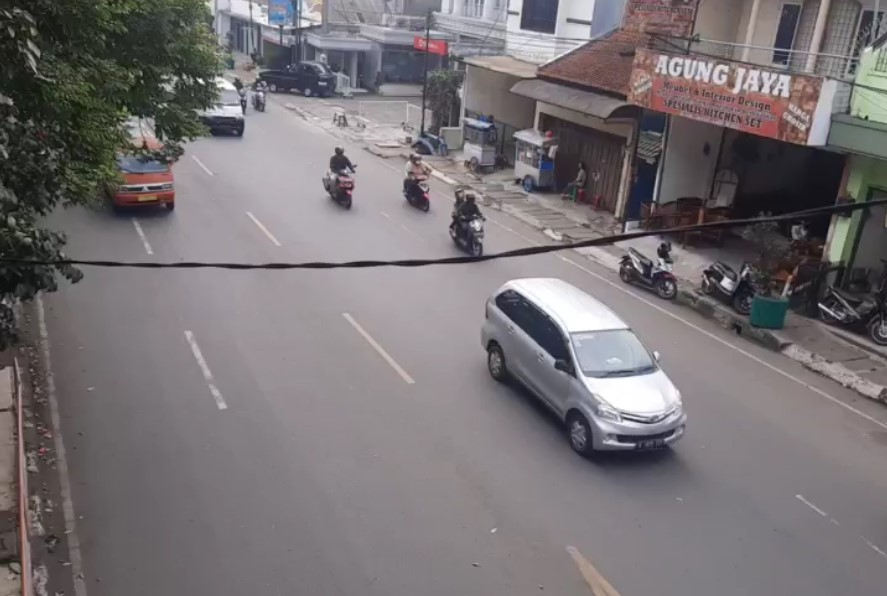mobil: (483, 277, 690, 463)
motor: (448, 186, 491, 255), (318, 144, 361, 206), (399, 153, 437, 213)
